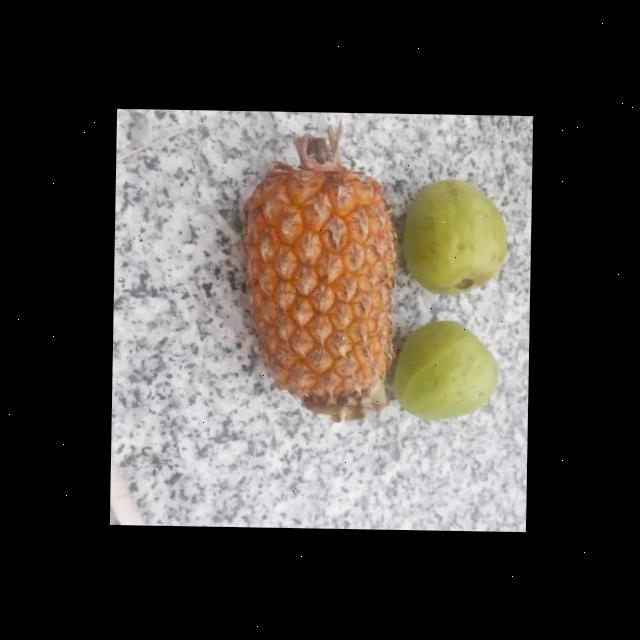guava: (402, 180, 507, 299), (392, 320, 498, 424)
pineapple: (233, 136, 399, 426)
